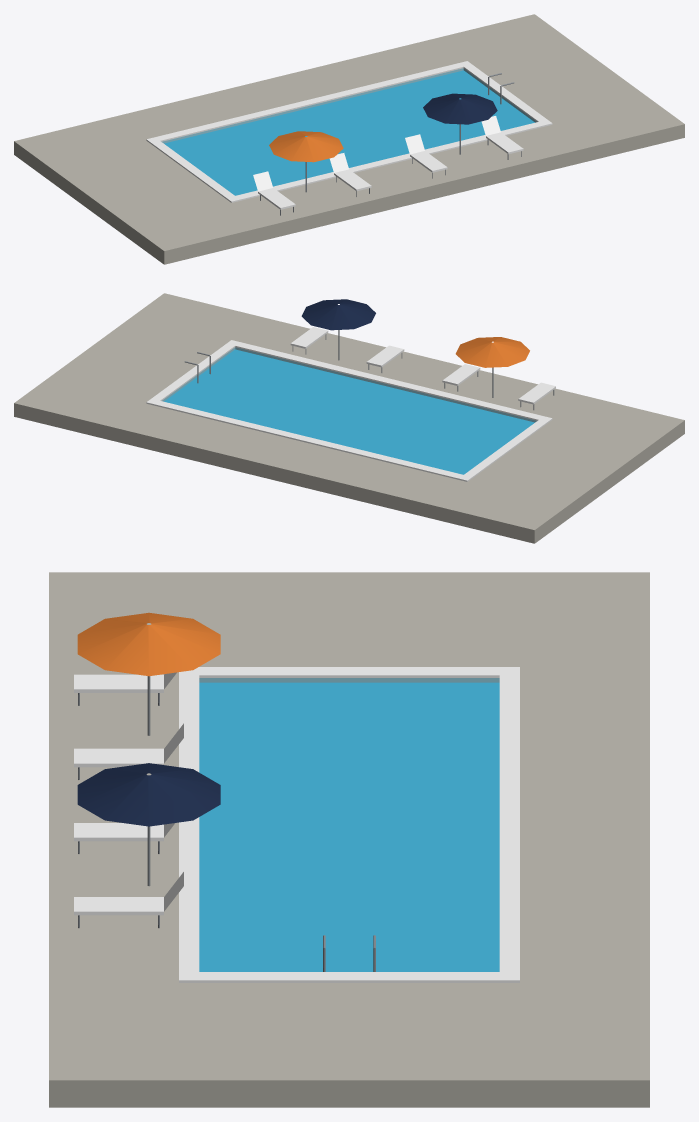
Rendered from piscina.glb.
3 renders of one model, top to bottom at view 1: azimuth 30°, elevation 25°; view 2: azimuth 150°, elevation 25°; view 3: azimuth 270°, elevation 25°, orthographic. The views are drawn at different scales.
Parts seen in each view (by area): view 1: Paredes, Vidro, Detalhes, Molduras; view 2: Paredes, Vidro, Detalhes, Molduras; view 3: Paredes, Vidro, Detalhes, Molduras.
Boxes of the visible parts, bbox=[...] form: Paredes: bbox=[14, 14, 684, 264]; Vidro: bbox=[164, 70, 534, 195]; Detalhes: bbox=[146, 61, 552, 215]; Molduras: bbox=[162, 68, 536, 143]; Paredes: bbox=[14, 293, 684, 543]; Vidro: bbox=[164, 349, 534, 474]; Detalhes: bbox=[146, 299, 555, 481]; Molduras: bbox=[162, 347, 536, 422]; Paredes: bbox=[49, 572, 649, 1107]; Vidro: bbox=[199, 682, 499, 971]; Detalhes: bbox=[74, 612, 519, 982]; Molduras: bbox=[199, 678, 499, 682].
Bounding box in the file's own units: 24 × 3.05 × 12.
